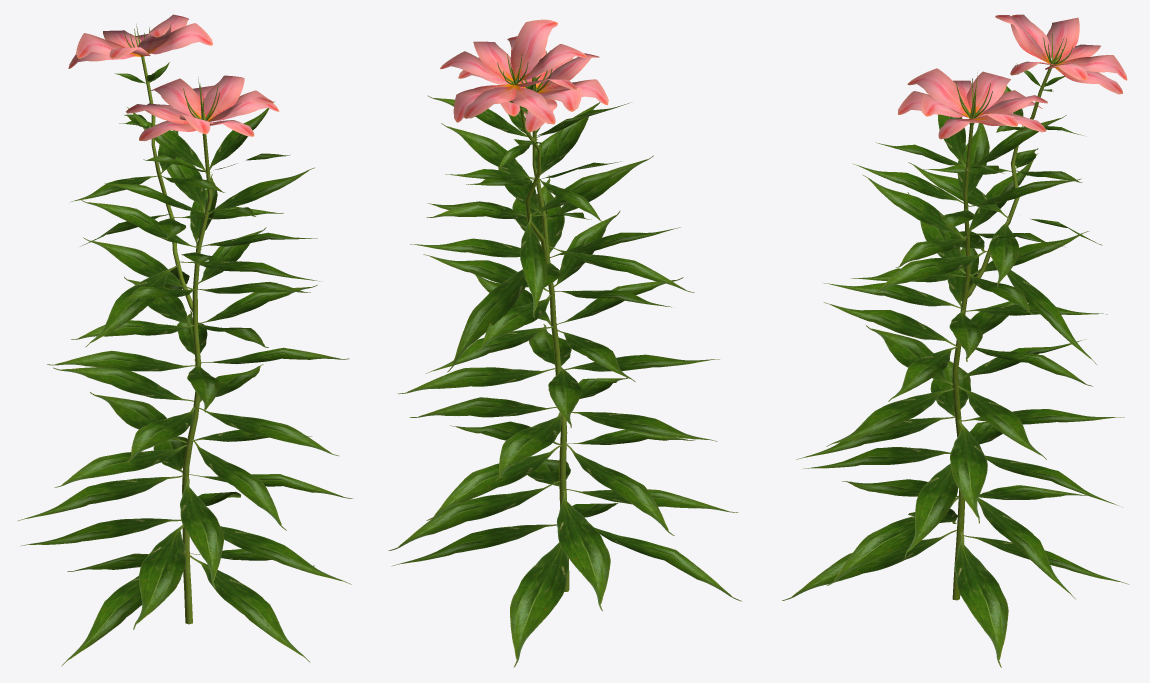
File: pinkmagnolia粉色玉兰花.glb
3 renders of one model, left to right at view 1: azimuth 30°, elevation 25°; view 2: azimuth 150°, elevation 25°; view 3: azimuth 270°, elevation 25°, orthographic.
Parts seen in each view (by area): view 1: Object_4, Object_3, Object_5; view 2: Object_4, Object_3, Object_5; view 3: Object_4, Object_3, Object_5.
Boxes of the visible parts, box(x1,y1,x2,y2) form: Object_4: box(17, 62, 353, 666); Object_3: box(68, 14, 279, 141); Object_5: box(124, 24, 219, 624); Object_4: box(388, 51, 741, 667); Object_3: box(440, 19, 608, 132); Object_5: box(497, 54, 569, 591); Object_4: box(782, 63, 1129, 667); Object_3: box(898, 14, 1127, 139); Object_5: box(952, 34, 1072, 600).
Bounding box in the file's own units: 2.19 × 4.04 × 2.25.
Materials: 4 (3 with a texture image).
